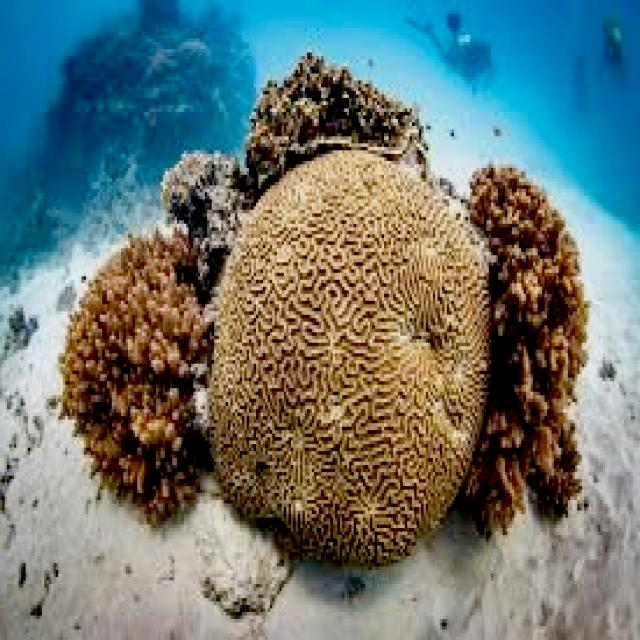Coral: (202, 151, 494, 568), (463, 165, 591, 547), (57, 225, 213, 526), (244, 52, 429, 166), (159, 151, 256, 255)
